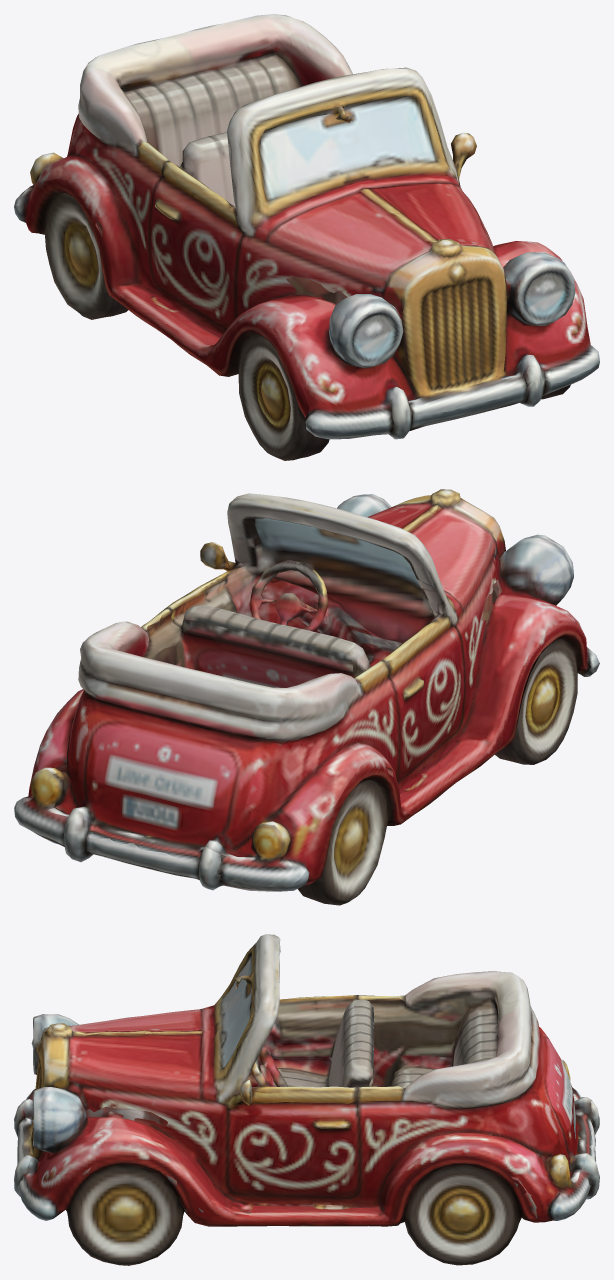
The model's file is 롯데_퍼레이드카.glb.
3 renders of one model, top to bottom at view 1: azimuth 30°, elevation 25°; view 2: azimuth 150°, elevation 25°; view 3: azimuth 270°, elevation 25°, orthographic. The views are drawn at different scales.
Visible parts, largest first — view 1: texture_mapping; view 2: texture_mapping; view 3: texture_mapping.
Part boxes in pixels (box(x1,y1,x2,y2)): texture_mapping: box(14, 14, 599, 460); texture_mapping: box(14, 489, 599, 905); texture_mapping: box(14, 934, 599, 1265).
Size of the model in its own units: 0.5126 by 0.4655 by 1.
Materials: 1 (1 with a texture image).
